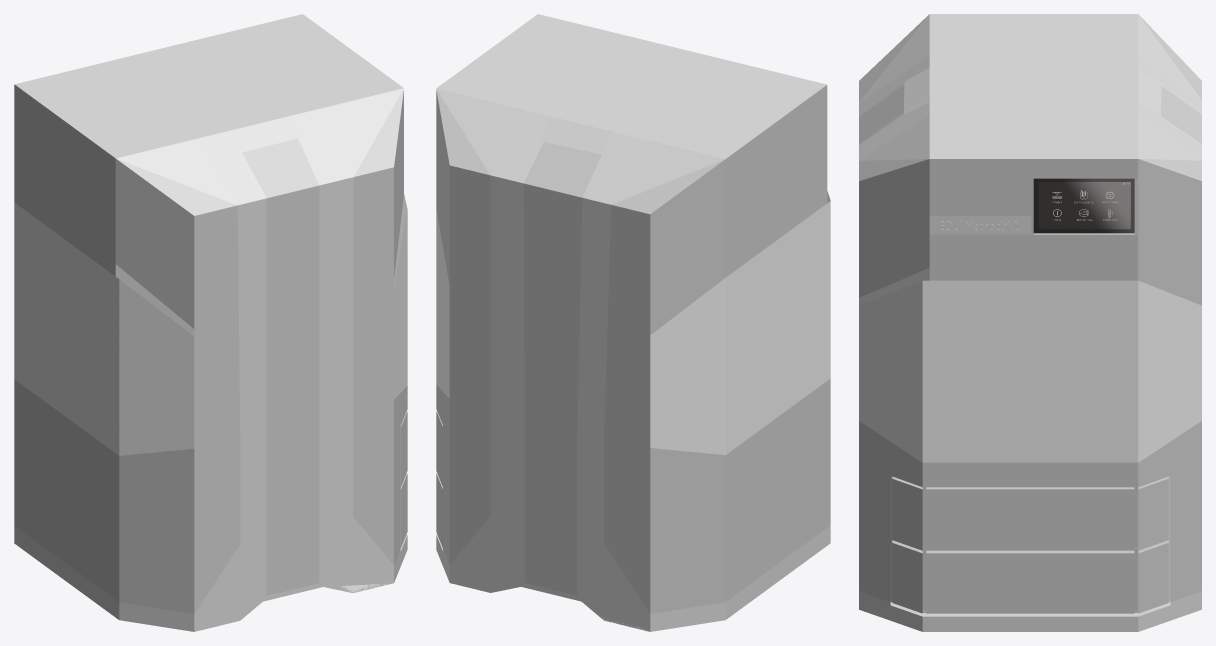
The model's file is EDUMethodX2 1.fbx.
The picture shows the model from 3 angles, left to right: view 1: azimuth 30°, elevation 25°; view 2: azimuth 150°, elevation 25°; view 3: azimuth 270°, elevation 25°; orthographic projection. The views are drawn at different scales.
Visible parts, largest first — view 1: Methodx.002, Methodx.001, glass; view 2: Methodx.002, Methodx.001, glass; view 3: Methodx.002, glass, Methodx.001, screen, blue.
Boxes of the visible parts, box(x1,y1,x2,y2) form: Methodx.002: box(14, 84, 407, 613); Methodx.001: box(14, 14, 407, 631); glass: box(14, 202, 407, 455); Methodx.002: box(436, 85, 830, 630); Methodx.001: box(436, 14, 830, 631); glass: box(436, 201, 830, 455); Methodx.002: box(859, 15, 1201, 616); glass: box(859, 280, 1201, 462); Methodx.001: box(859, 14, 1201, 631); screen: box(1033, 178, 1134, 233); blue: box(929, 216, 1031, 234).
Size of the model in its own units: 70.16 by 107 by 69.97.
